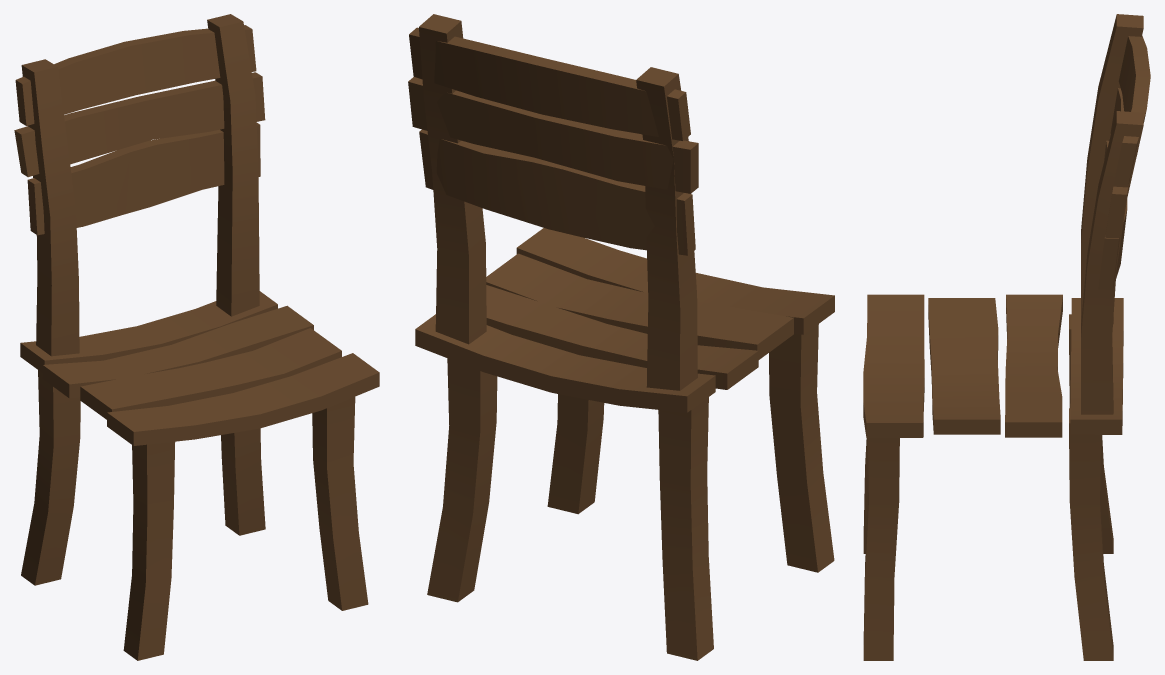
File: SM_chair.fbx
3 renders of one model, left to right at view 1: azimuth 30°, elevation 25°; view 2: azimuth 150°, elevation 25°; view 3: azimuth 270°, elevation 25°, orthographic. The views are drawn at different scales.
Parts seen in each view (by area): view 1: Object32263; view 2: Object32263; view 3: Object32263.
Boxes of the visible parts, x1,y1,x2,y2 form: Object32263: (14, 14, 379, 660); Object32263: (408, 14, 834, 660); Object32263: (863, 14, 1150, 660).
Bounding box in the file's own units: 25.94 × 50.33 × 24.57.
